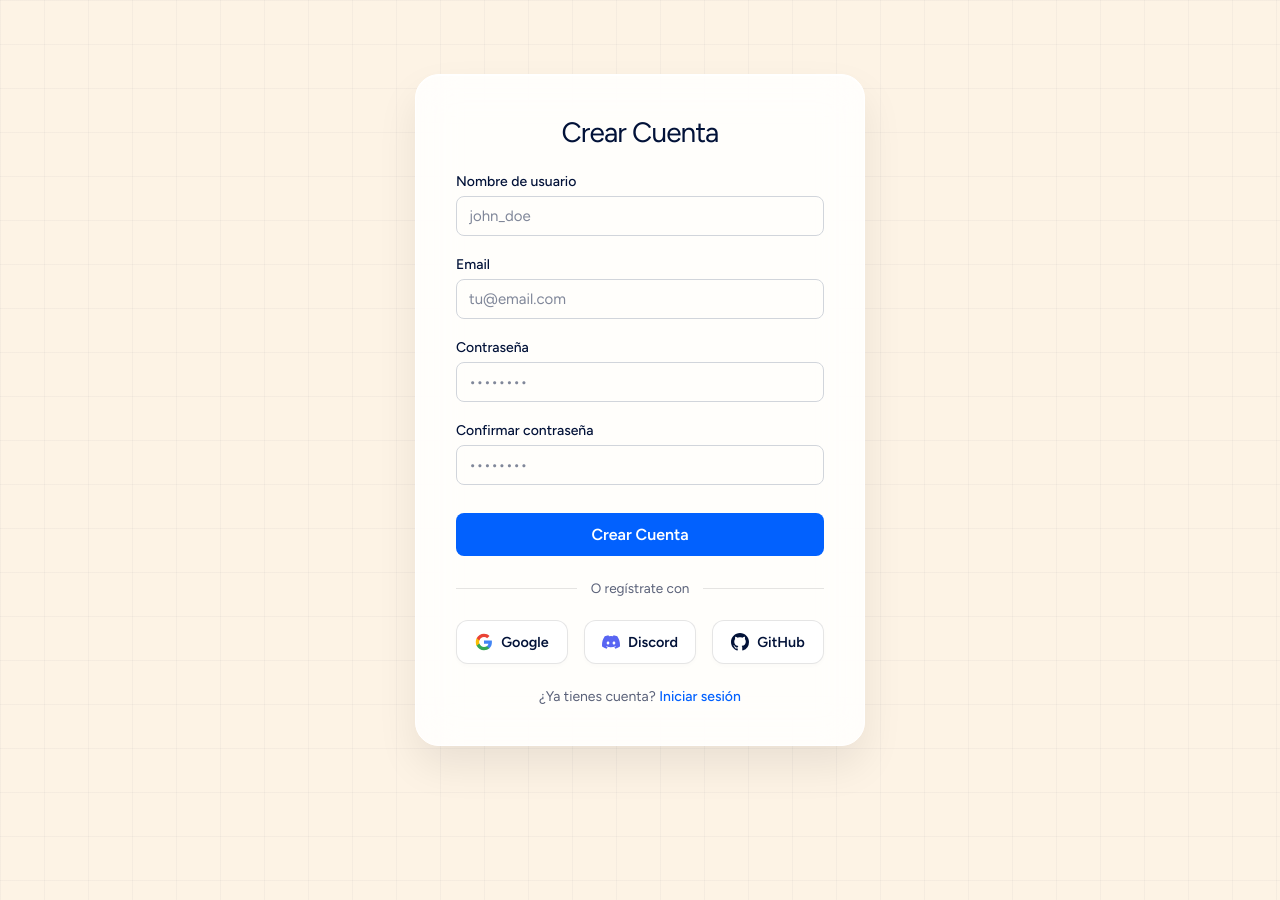
forms refused by a rate limit › sign-up shows how long to wait
Type "fede" into the field labelled "Nombre de usuario" at (640, 216), box [456,196,824,236]
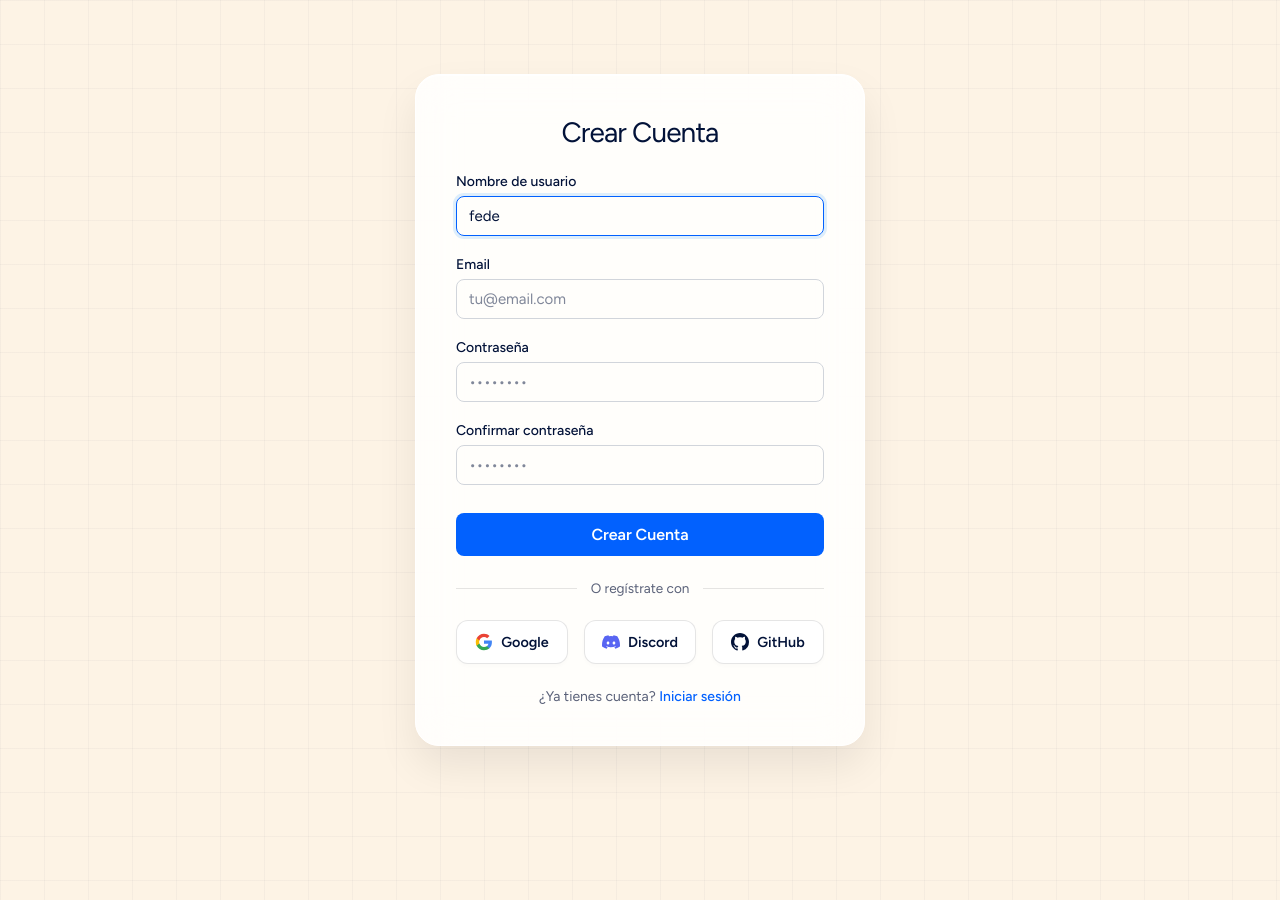
Type "fede@example.com" into the field labelled "Email" at (640, 299), box [456,279,824,319]
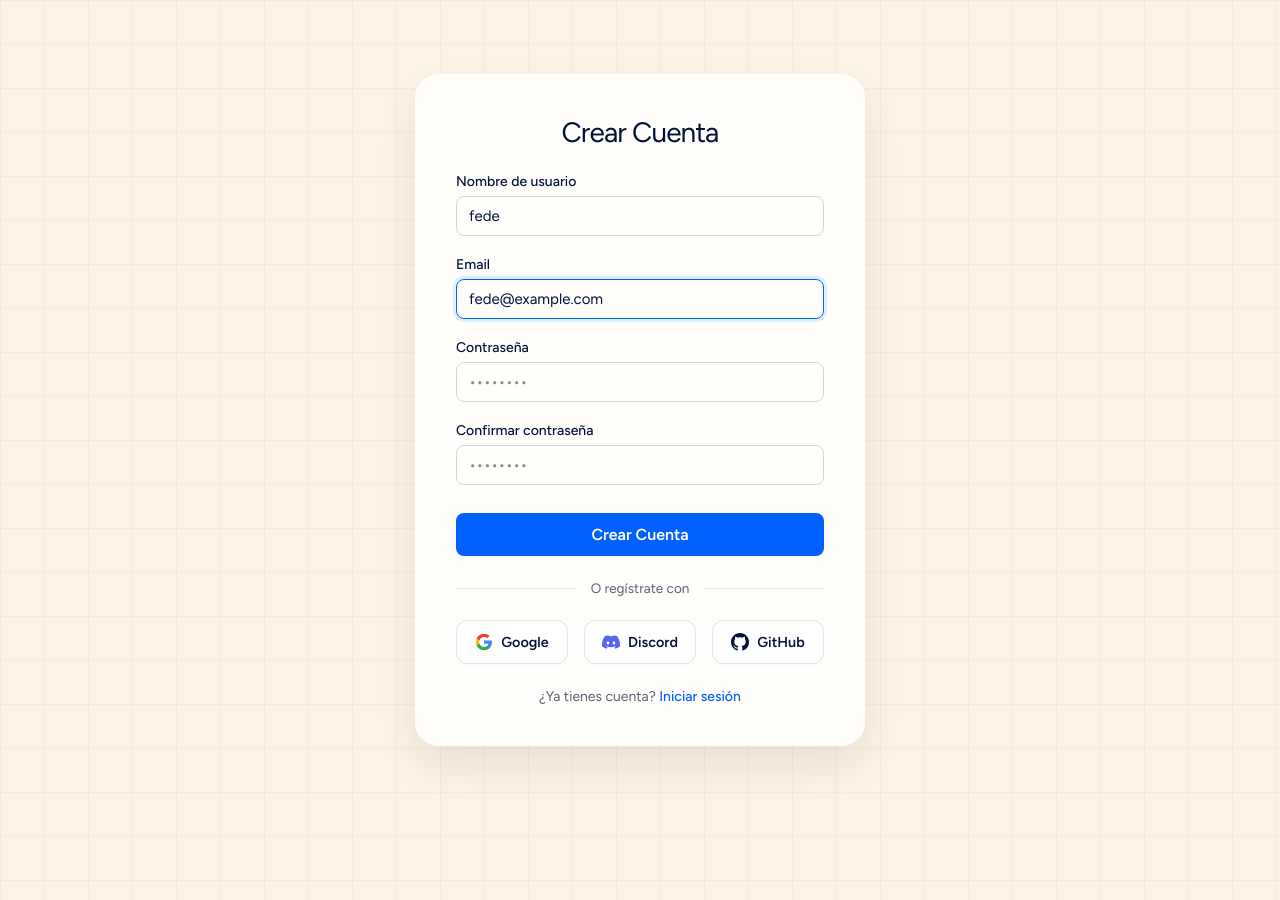
Type "Segura123!" into the password field labelled "Contraseña" at (640, 382), box [456,362,824,402]
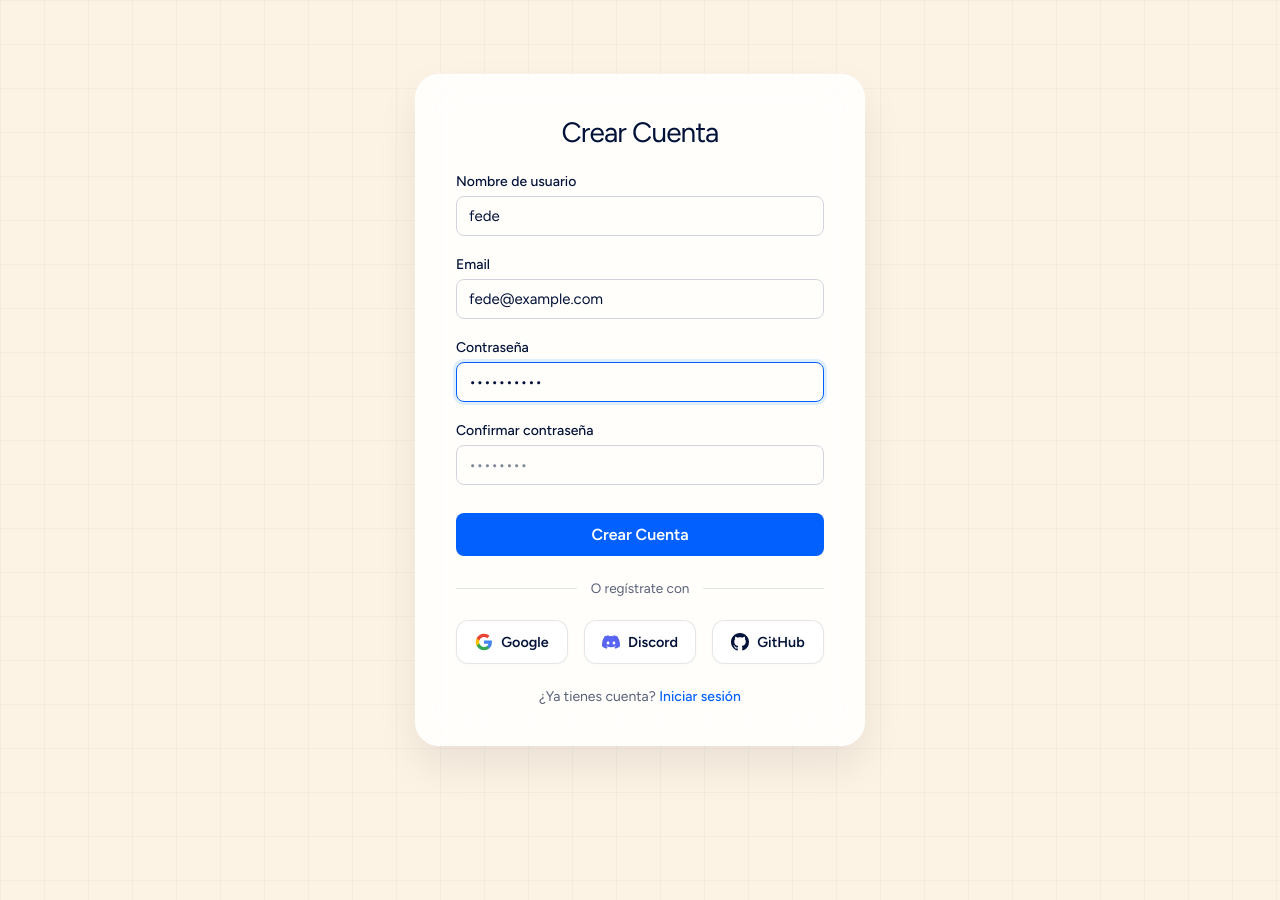
Type "Segura123!" into the password field labelled "Confirmar contraseña" at (640, 465), box [456,445,824,485]
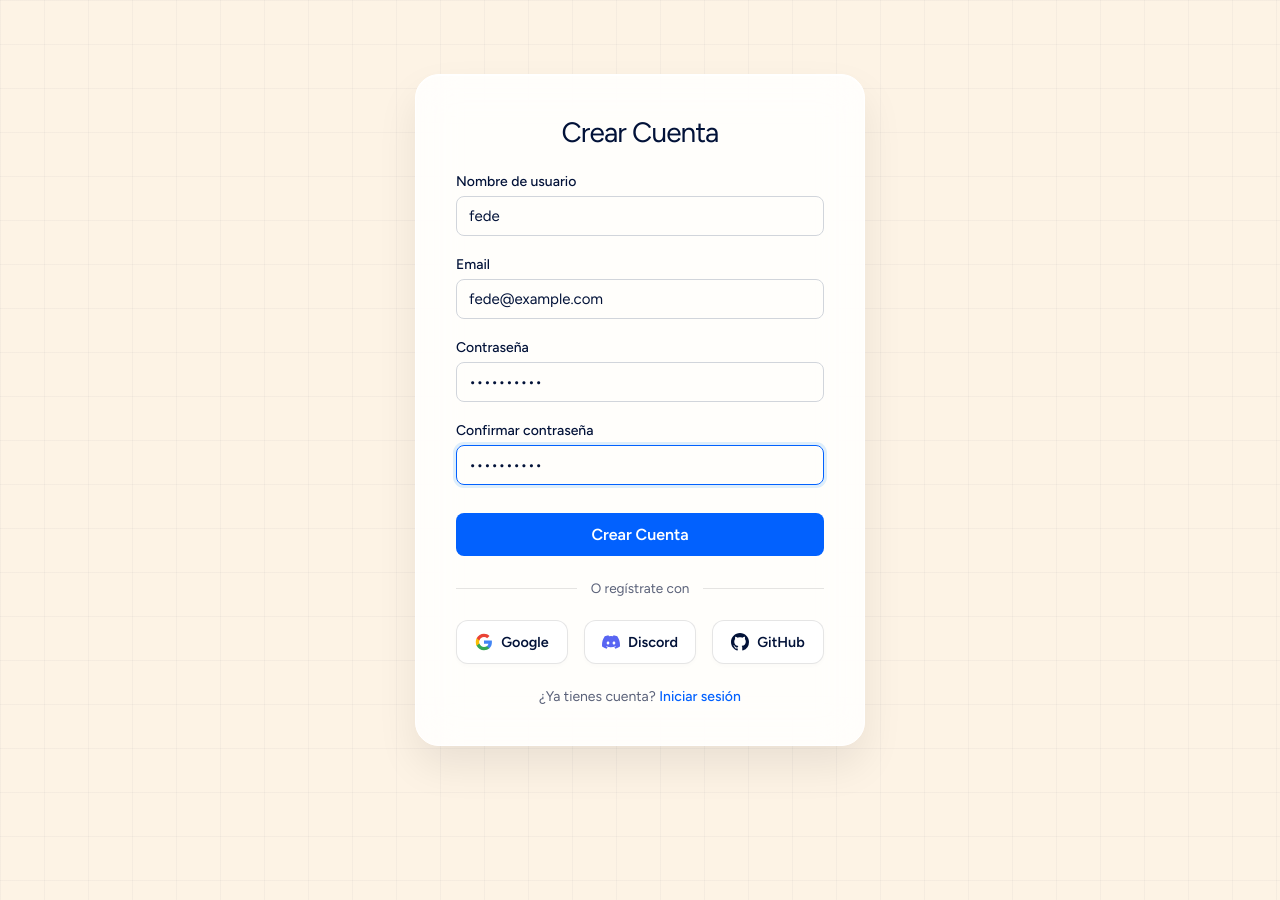
Click the button "Crear Cuenta" at (640, 534), box [456,513,824,556]
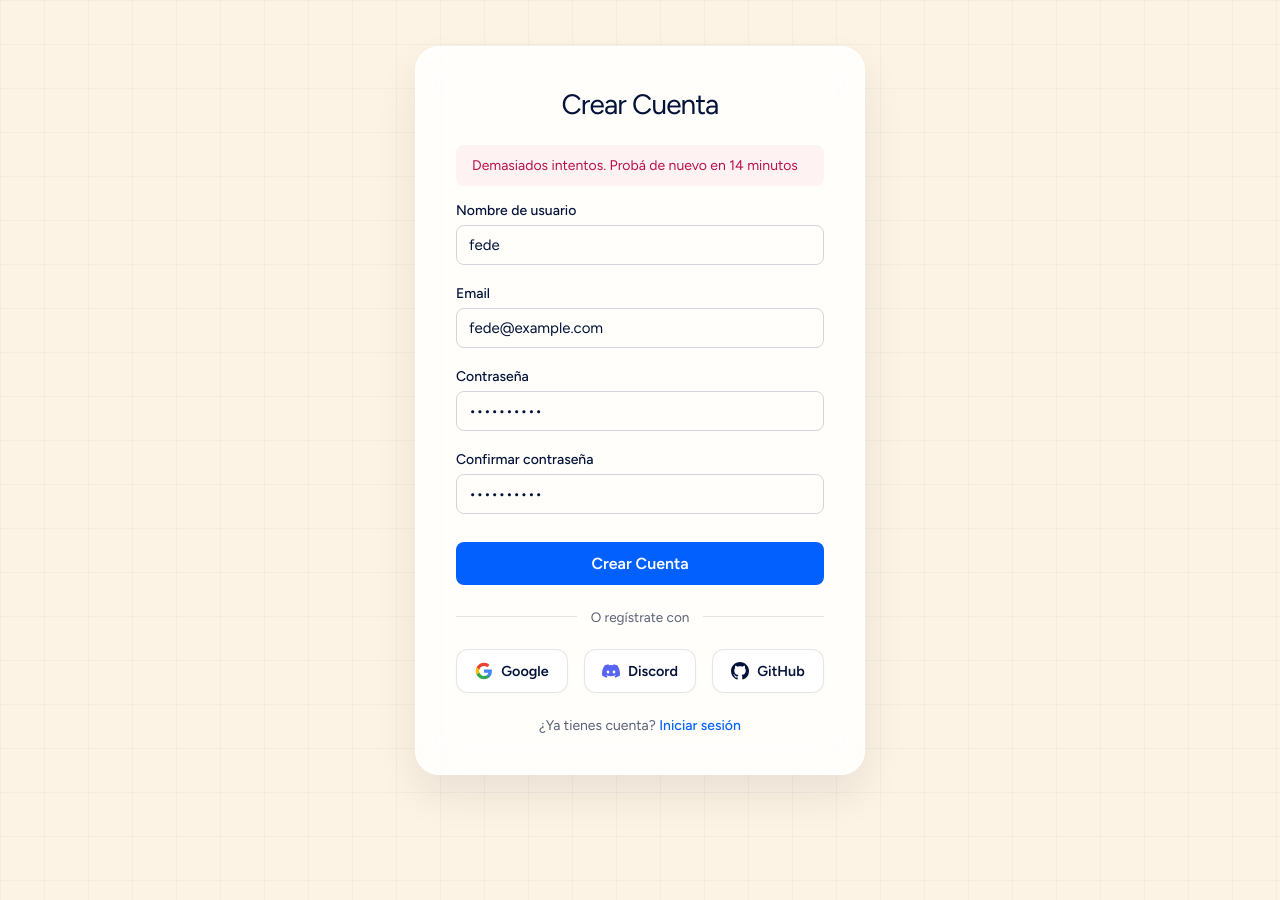
Result: the text "Demasiados intentos. Probá de nuevo en 14 minutos" is shown at [456,144,824,186]
